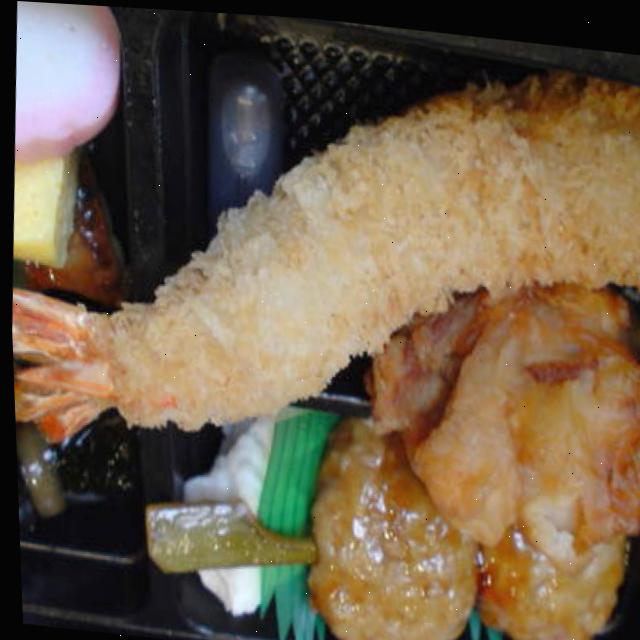炸货点心: (1, 24, 640, 507)
熟制海鲜: (1, 24, 640, 507)
鸡肉料理 含炸鸡: (348, 267, 640, 556)
